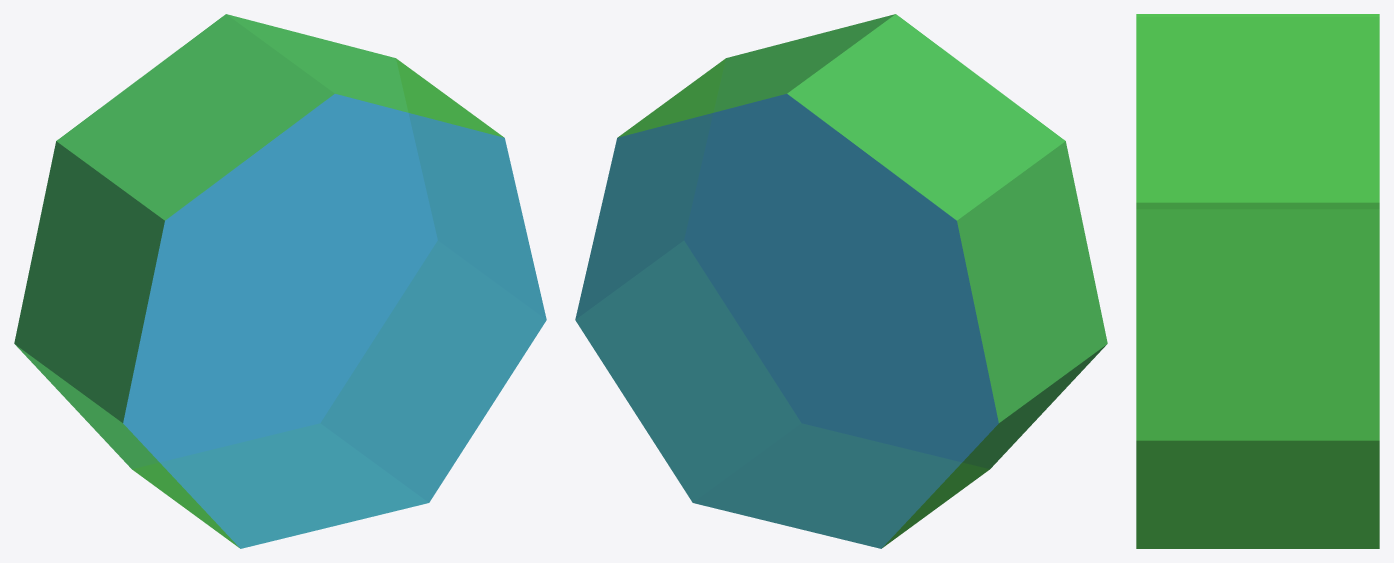
The model's file is HeptagonalPrism.obj.
The picture shows the model from 3 angles, left to right: view 1: azimuth 30°, elevation 25°; view 2: azimuth 150°, elevation 25°; view 3: azimuth 270°, elevation 25°; orthographic projection. The views are drawn at different scales.
Size of the model in its own units: 2.25 by 2.19 by 1.
